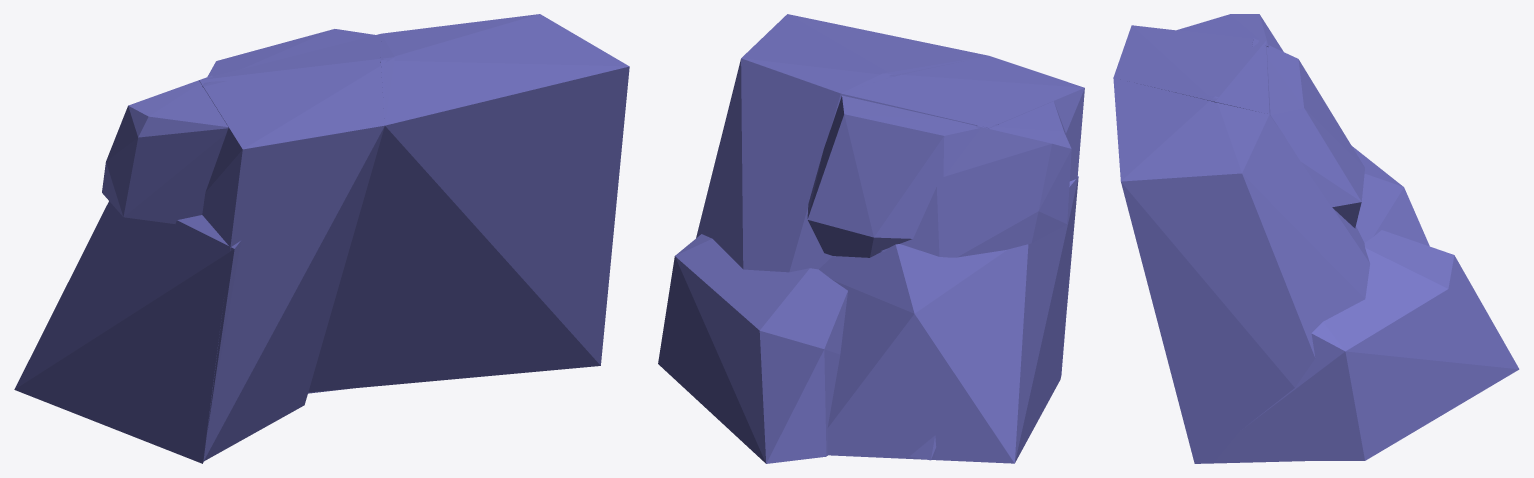
The model's file is Cliff_Sediment_03_Collider_In_01.FBX.
3 views of the same model, side by side, from view 1: azimuth 30°, elevation 25°; view 2: azimuth 150°, elevation 25°; view 3: azimuth 270°, elevation 25° (orthographic). The views are drawn at different scales.
Parts seen in each view (by area): view 1: COLLIDER6, COLLIDER1, COLLIDER5, COLLIDER2, COLLIDER4; view 2: COLLIDER5, COLLIDER3, COLLIDER6, COLLIDER4, COLLIDER2, COLLIDER1; view 3: COLLIDER6, COLLIDER3, COLLIDER1, COLLIDER4, COLLIDER5, COLLIDER2.
Part boxes in pixels (bbox=[...]): COLLIDER6: bbox=[308, 14, 629, 392]; COLLIDER1: bbox=[199, 34, 394, 461]; COLLIDER5: bbox=[14, 201, 241, 463]; COLLIDER2: bbox=[102, 75, 228, 223]; COLLIDER4: bbox=[202, 29, 374, 86]; COLLIDER5: bbox=[819, 176, 1078, 463]; COLLIDER3: bbox=[658, 234, 847, 463]; COLLIDER6: bbox=[696, 14, 988, 272]; COLLIDER4: bbox=[807, 95, 998, 257]; COLLIDER2: bbox=[881, 101, 1071, 257]; COLLIDER1: bbox=[789, 56, 1084, 460]; COLLIDER6: bbox=[1113, 77, 1369, 463]; COLLIDER3: bbox=[1215, 230, 1519, 461]; COLLIDER1: bbox=[1113, 25, 1369, 262]; COLLIDER4: bbox=[1252, 38, 1364, 228]; COLLIDER5: bbox=[1352, 146, 1429, 246]; COLLIDER2: bbox=[1177, 14, 1283, 51].
Size of the model in its own units: 529 by 384 by 486.
